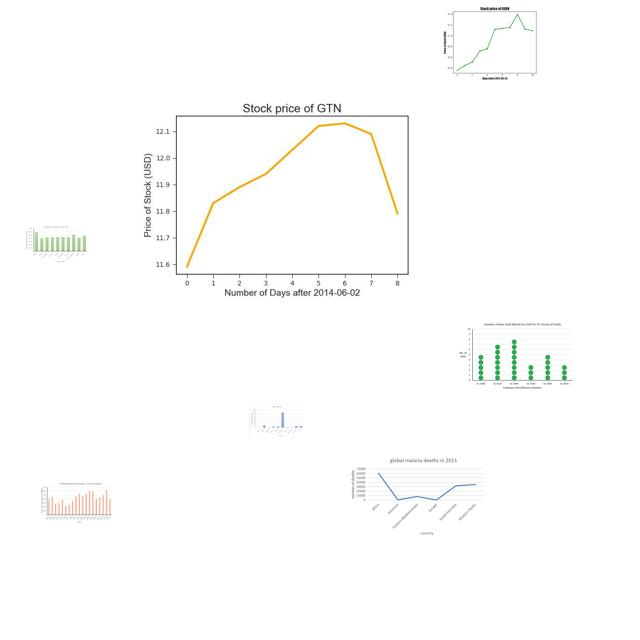Graph: (139, 82, 438, 306), (349, 455, 484, 537), (457, 320, 575, 393), (440, 2, 547, 82), (40, 482, 112, 523), (25, 225, 88, 263), (249, 404, 305, 438)
